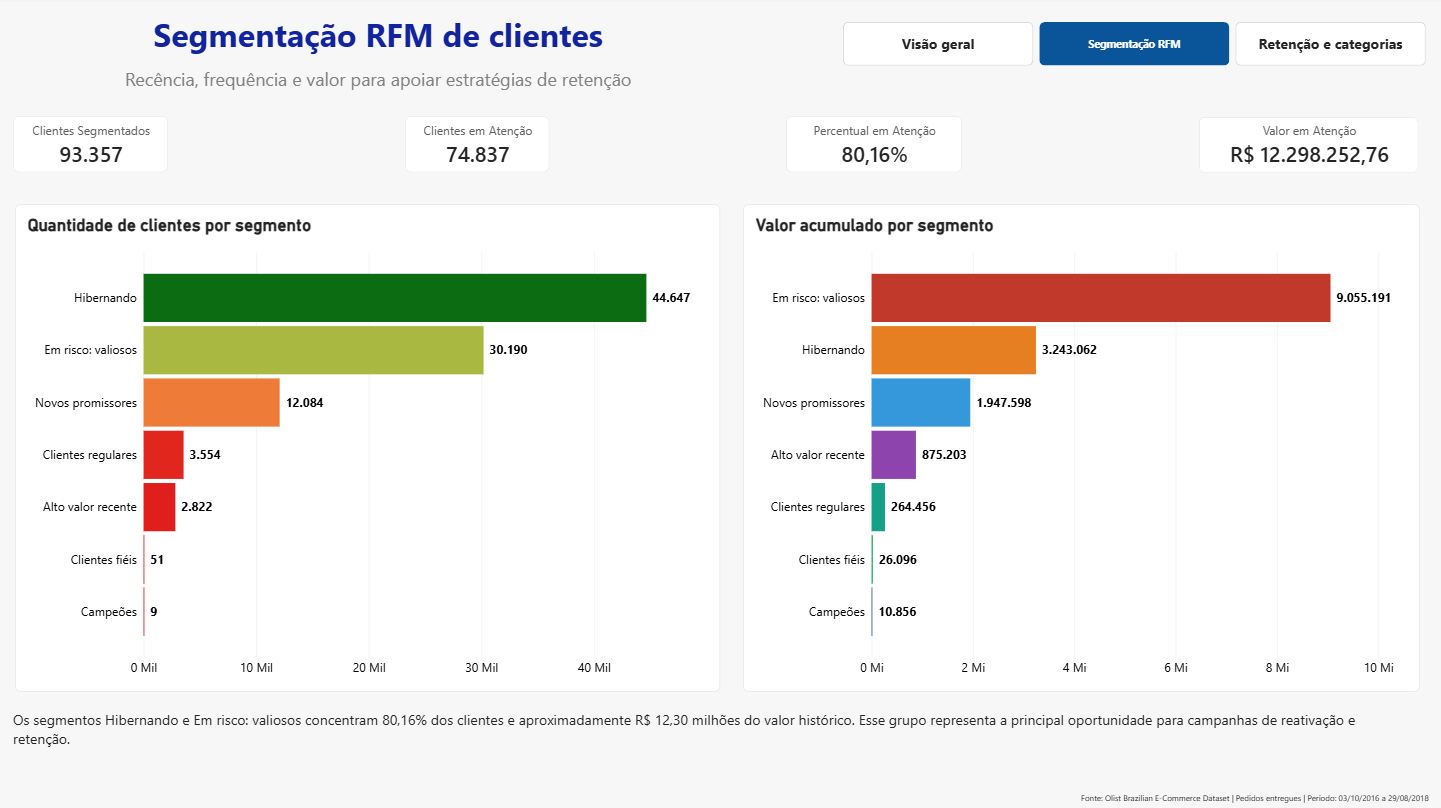

The page's visual inventory and layout, read from the dashboard file:
{"tool":"powerbi","page":{"name":"Segmentação RFM","canvas":[1920,1080],"ordinal":1},"visuals":[{"type":"textbox","box":[19.5,19.5,971.1,57],"z":0},{"type":"textbox","box":[19.5,91.7,971.7,45.2],"z":1000},{"type":"cardVisual","fields":{"Data":["segmentos_rfm.Clientes Segmentados"]},"box":[20,158.6,206.2,75.8],"z":2000},{"type":"cardVisual","fields":{"Data":["segmentos_rfm.Clientes em Atenção"]},"box":[540.8,158.7,192.9,75.7],"z":3000},{"type":"cardVisual","fields":{"Data":["segmentos_rfm.Valor em Atenção"]},"box":[1597.5,159.3,292.6,74.5],"z":4000},{"type":"cardVisual","fields":{"Data":["segmentos_rfm.Percentual em Atenção"]},"box":[1048.4,158.7,234.4,75.7],"z":5000},{"type":"clusteredBarChart","title":"Quantidade de clientes por  segmento","fields":{"Category":["segmentos_rfm.Nome Segmento"],"Y":["Sum(segmentos_rfm.quantidade_clientes)"]},"box":[22.2,275.1,937.8,648.8],"z":6000},{"type":"clusteredBarChart","title":"Valor acumulado por segmento","fields":{"Category":["segmentos_rfm.Nome Segmento"],"Y":["Sum(segmentos_rfm.valor_total)"]},"box":[990.6,275.1,900.3,648.8],"z":7000},{"type":"textbox","box":[19.5,948.9,1826.9,69.5],"z":8000},{"type":"textbox","box":[1440.7,1054.5,479.3,25],"z":9000},{"type":"pageNavigator","box":[1123.9,33.3,776.6,58.4],"z":9001}]}

Visuals, with their boxes in screenshot pixels (x1, y1, x2, y2), scaled from the page's 1920x1080 canvas onto the 1441x808 screenshot:
textbox: crop(15, 15, 743, 57)
textbox: crop(15, 69, 744, 102)
cardVisual - segmentos_rfm.Clientes Segmentados: crop(15, 119, 170, 175)
cardVisual - segmentos_rfm.Clientes em Atenção: crop(406, 119, 551, 175)
cardVisual - segmentos_rfm.Valor em Atenção: crop(1199, 119, 1419, 175)
cardVisual - segmentos_rfm.Percentual em Atenção: crop(787, 119, 963, 175)
"Quantidade de clientes por  segmento" clusteredBarChart: crop(17, 206, 720, 691)
"Valor acumulado por segmento" clusteredBarChart: crop(743, 206, 1419, 691)
textbox: crop(15, 710, 1386, 762)
textbox: crop(1081, 789, 1440, 807)
pageNavigator: crop(844, 25, 1426, 69)
